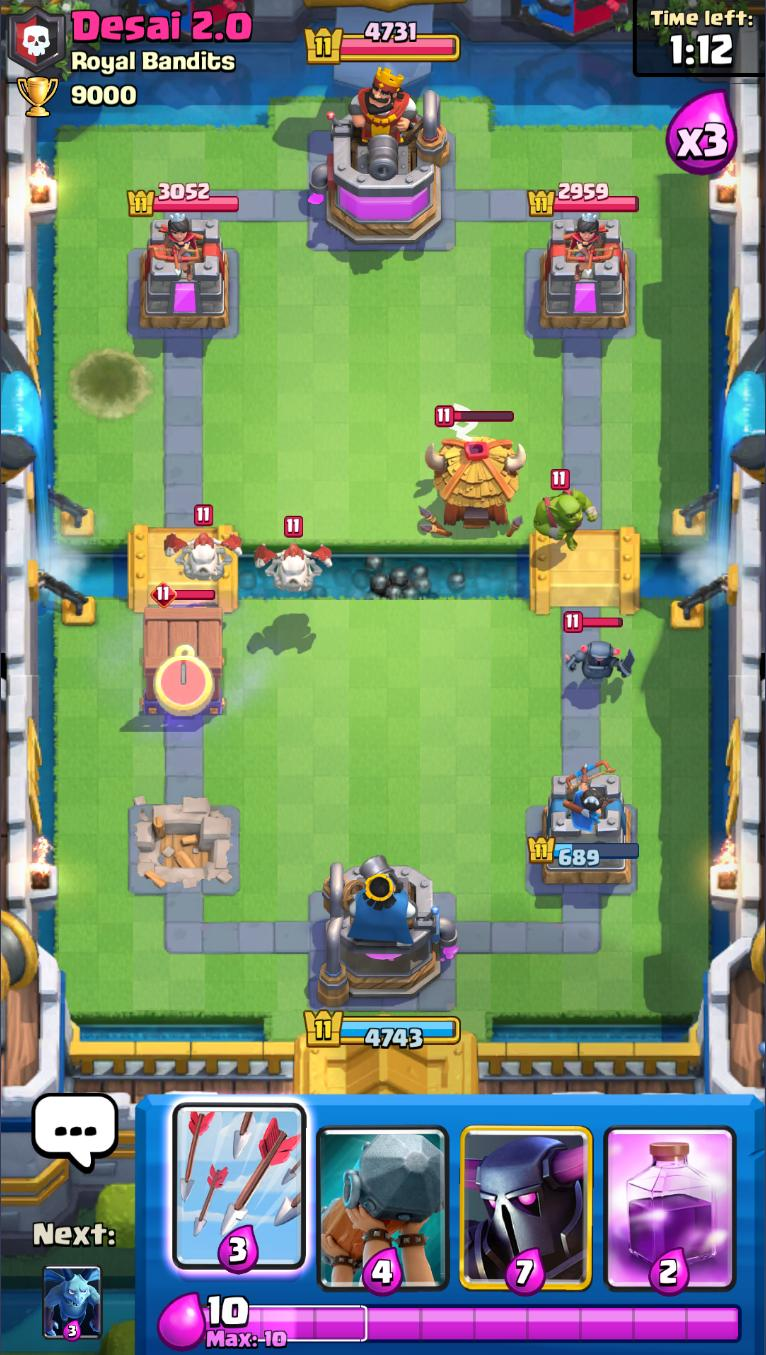ArrowDeck: (165, 1096, 307, 1295)
BattleRamDeck: (311, 1097, 454, 1295)
Elixir: (202, 1295, 745, 1352)
EnemyTower: (137, 214, 231, 333), (538, 214, 632, 331)
EvoGoblinCage: (142, 578, 227, 716)
GoblinCageGoblin: (533, 468, 599, 555)
GoblinHut: (419, 404, 529, 544)
KingTower: (309, 80, 454, 248)
KingTowerHP: (304, 27, 462, 65)
MiniPekka: (561, 612, 636, 686)
MinionsNext: (41, 1263, 101, 1344)
MyKingHP: (302, 1006, 463, 1051)
MyKingTower: (318, 855, 460, 1009)
MyPrincessTower: (526, 768, 642, 889)
MyPrincessTowerBrocken: (126, 794, 242, 899)
MyPrincessTowerHP: (527, 835, 642, 867)
PekkaDeck: (454, 1097, 600, 1294)
PrincessTower: (549, 214, 604, 275), (152, 214, 202, 273)
RageDeck: (600, 1097, 744, 1294)
SkeletonDragon: (162, 501, 246, 583), (254, 517, 335, 594)
TowerPrincessHP: (127, 180, 241, 217), (527, 181, 640, 216)
